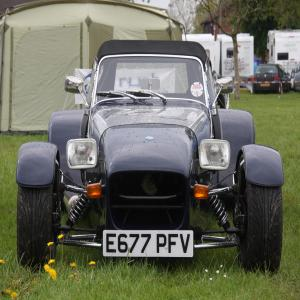Vehicle-registration-plate: (105, 232, 194, 257)
